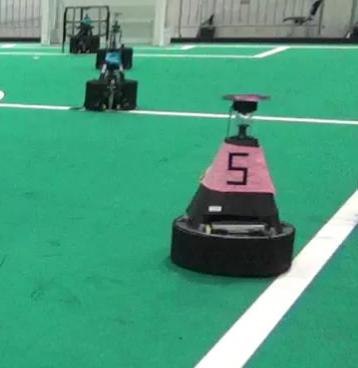robot: (171, 86, 296, 279), (83, 17, 139, 114)
